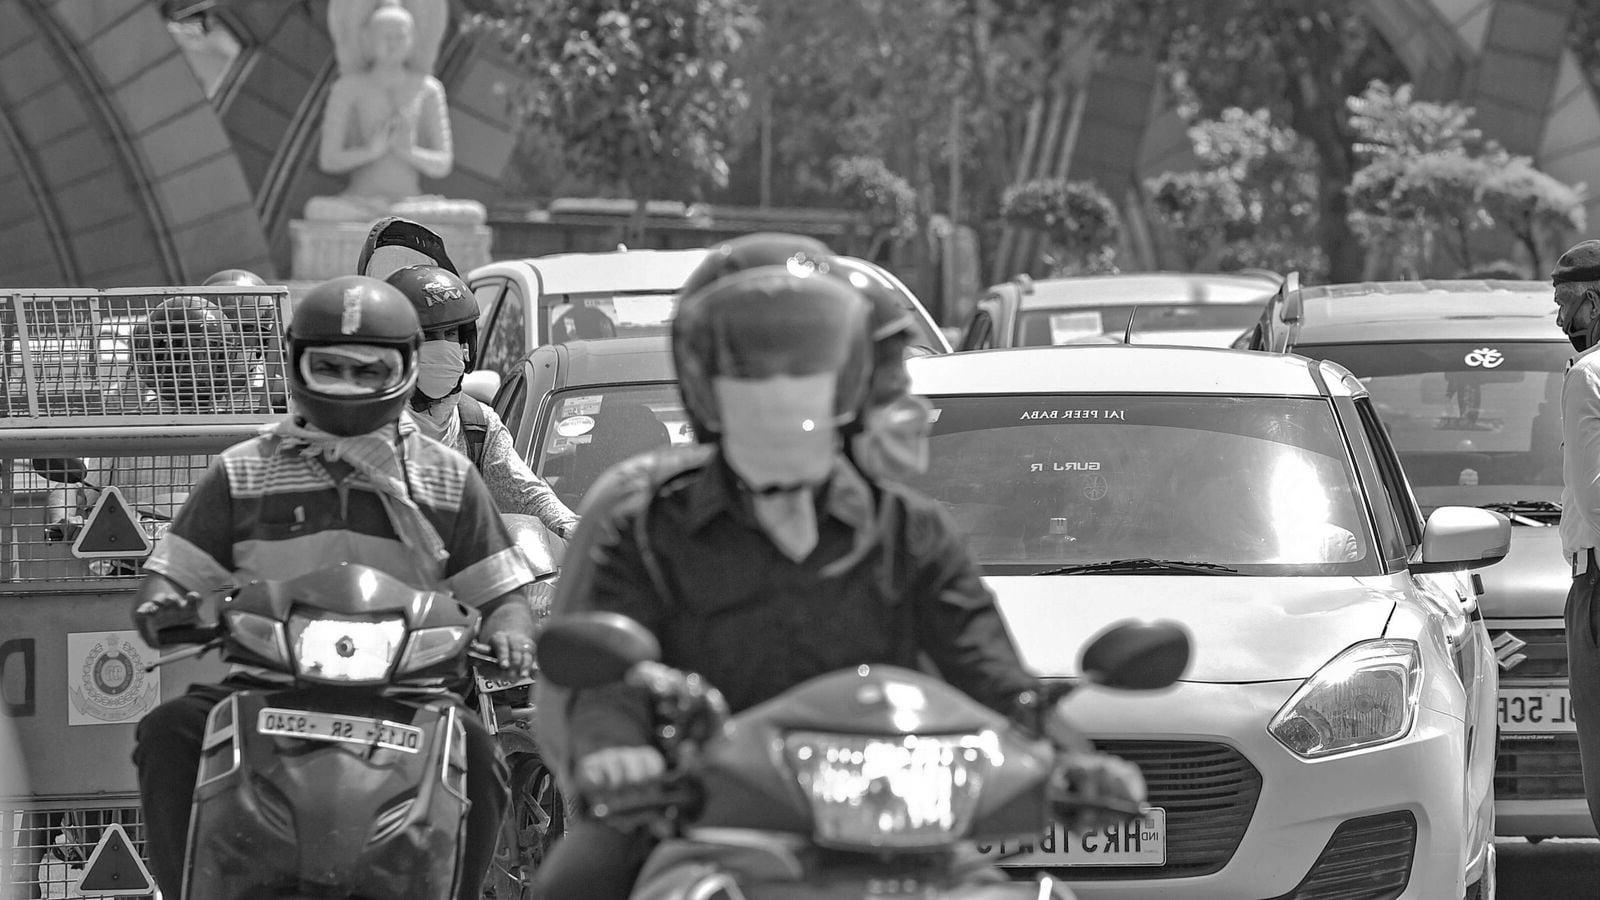Helmet: (673, 251, 873, 563)
